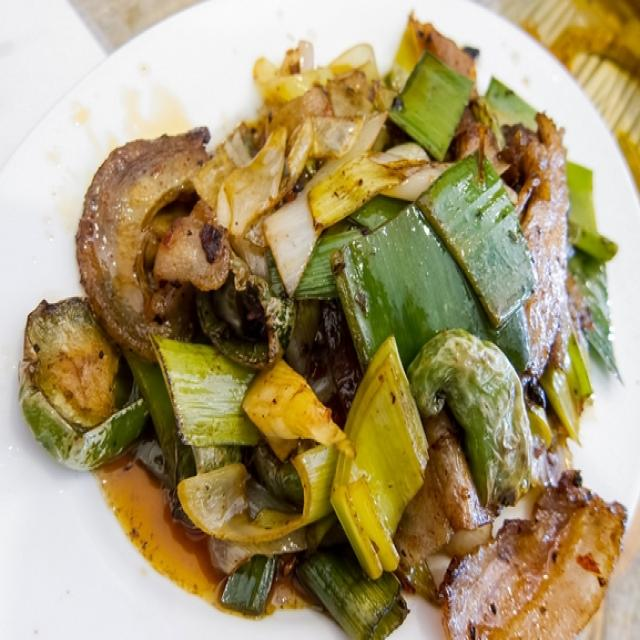猪肉菜式: (11, 24, 633, 620)
